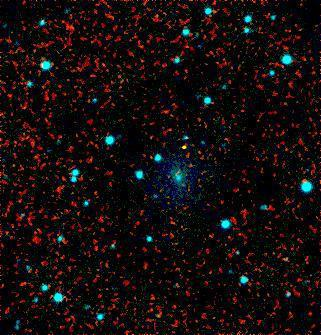star: (167, 131, 197, 161)
